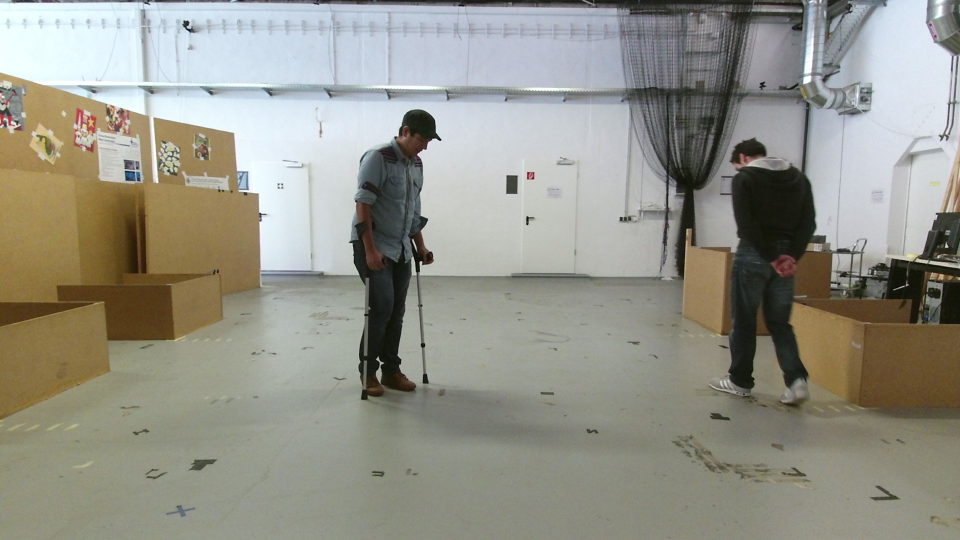crutches: (334, 108, 456, 400)
